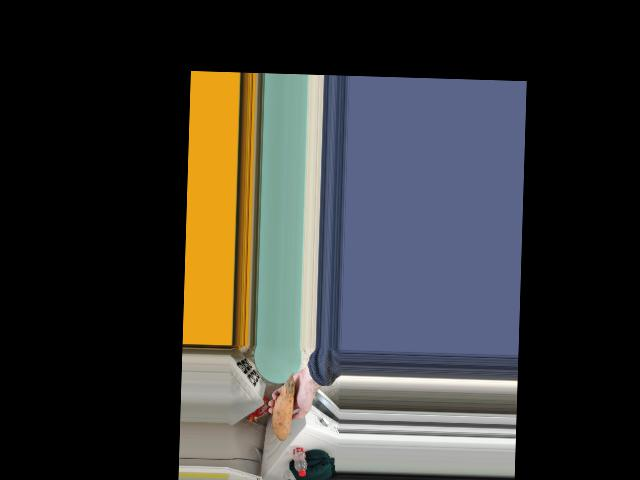sweet_potato: (271, 380, 296, 434)
